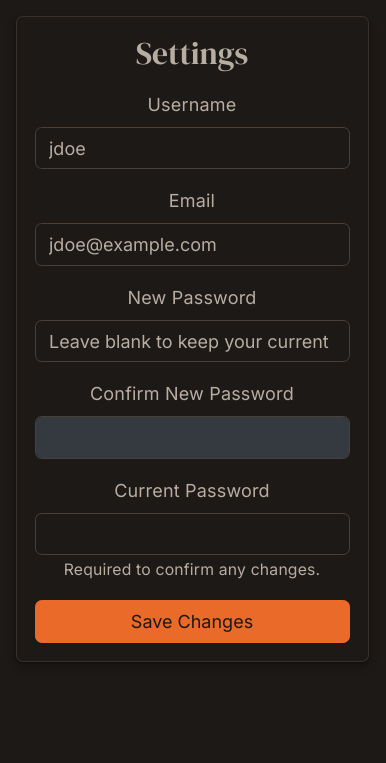
Test: SettingsPage › shows an error message when updating fails
This screenshot has width=386, height=763.
Type "wrong-password" into the password field labelled "Current Password" at point(192, 534), box [34,513,350,555]
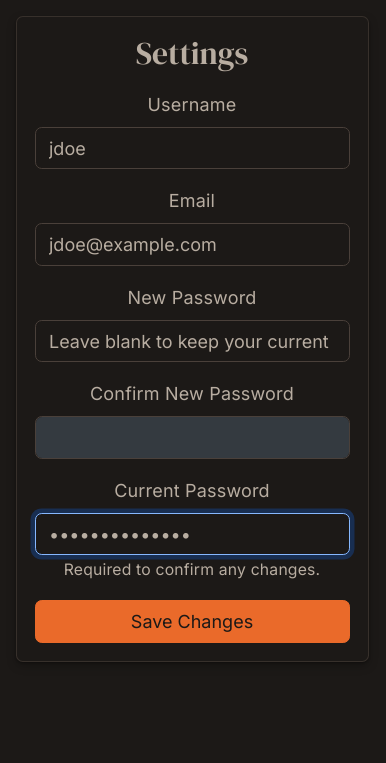
Click the button "Save Changes" at point(192, 622), box [34,600,350,643]
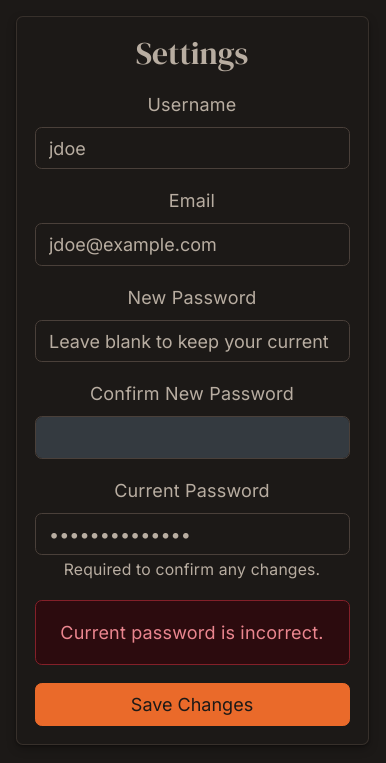
Check: the message reads "Current password is incorrect.", box [60,622,324,643]
